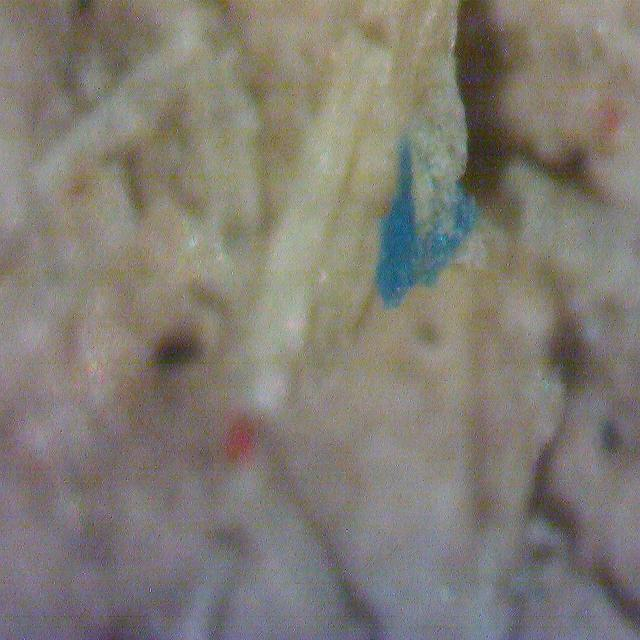microplastic: (374, 134, 483, 307)
